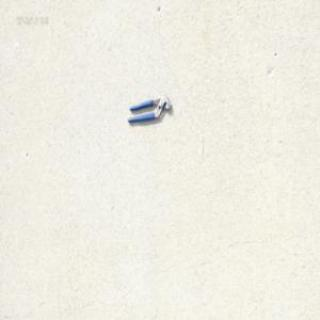Pliertrack_idkeyframe: (125, 93, 171, 123)
